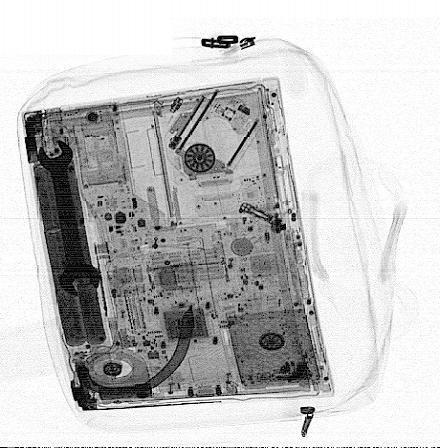Wrench: (36, 137, 101, 298)
